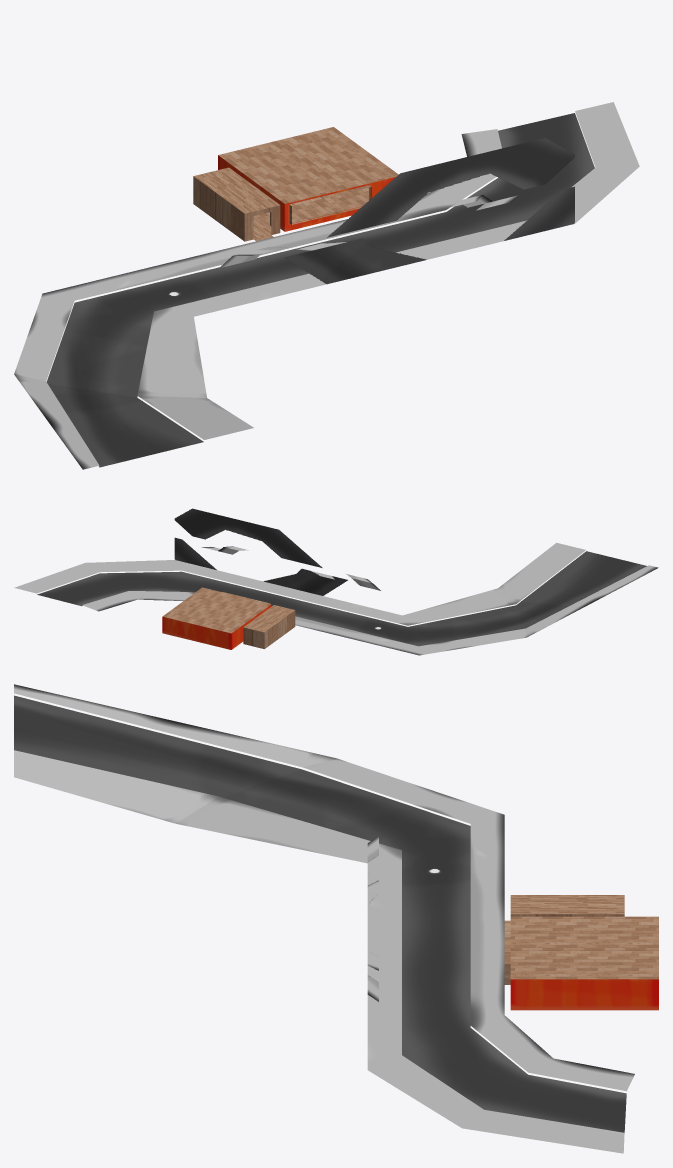
File: rua.obj
The picture shows the model from 3 angles, top to bottom: view 1: azimuth 30°, elevation 25°; view 2: azimuth 150°, elevation 25°; view 3: azimuth 270°, elevation 25°; orthographic projection. The views are drawn at different scales.
Visible parts, largest first — view 1: Cube.004, Cube.005, Cube.001, Cube.003, Cube; view 2: Cube.004, Cube.005, Cube.001, Cube, Cube.003; view 3: Cube.004, Cube.001, Cube, Cube.005.
Part boxes in pixels (x1,y1,x2,y2): Cube.004: (14,102,639,469); Cube.005: (219,138,574,284); Cube.001: (193,127,398,241); Cube.003: (193,176,280,241); Cube: (218,155,395,231); Cube.004: (14,542,658,655); Cube.005: (174,508,380,595); Cube.001: (163,587,294,633); Cube: (162,604,271,649); Cube.003: (243,610,295,648); Cube.004: (14,684,634,1153); Cube.001: (510,895,658,979); Cube: (510,979,658,1010); Cube.005: (367,836,378,1001).
Size of the model in its own units: 91.48 by 10.2 by 56.47.
